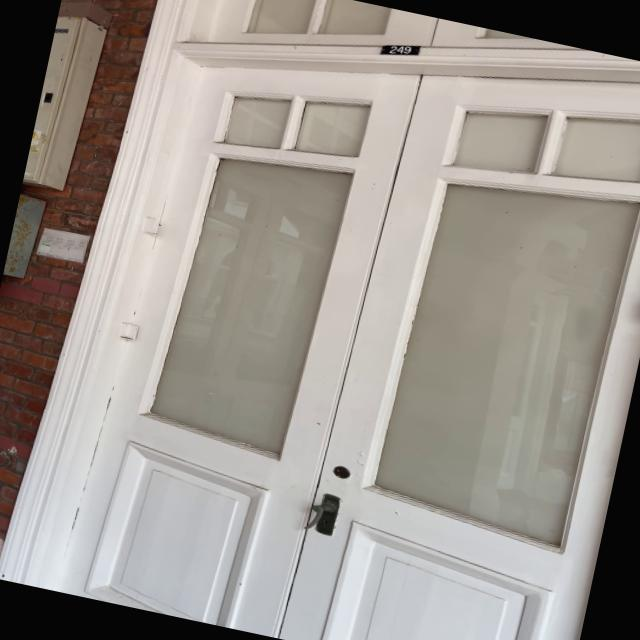room249: (376, 35, 423, 64)
